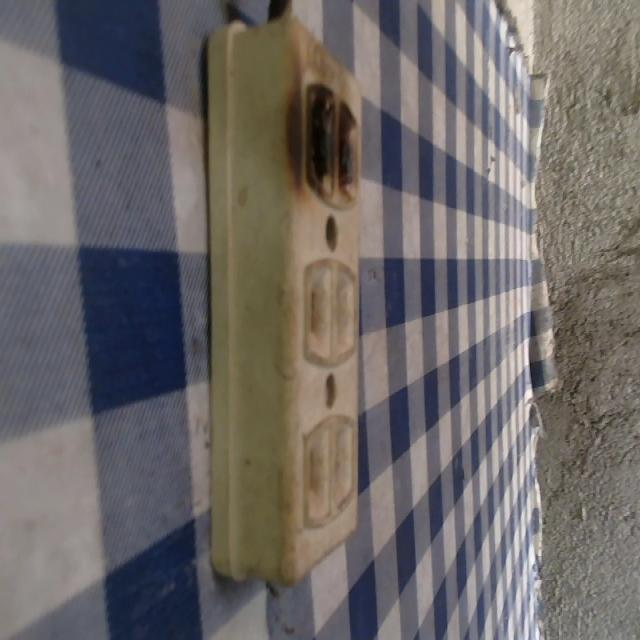-: (290, 67, 372, 216)
